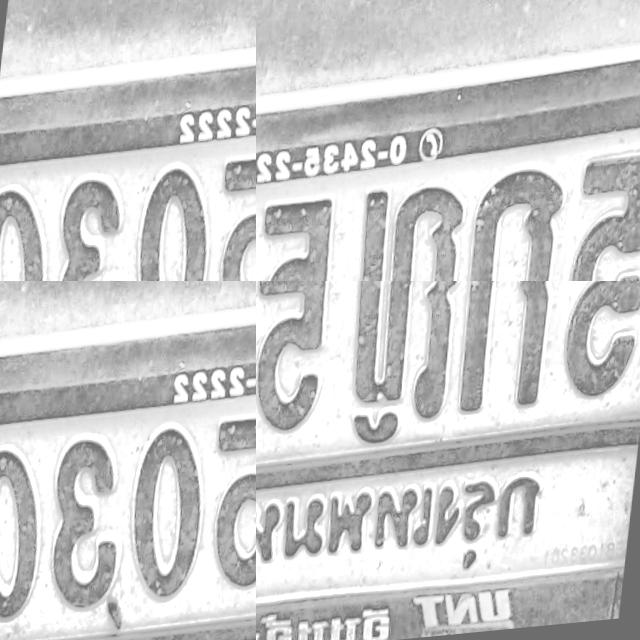license-plate: (256, 281, 640, 640), (256, 0, 640, 281)
